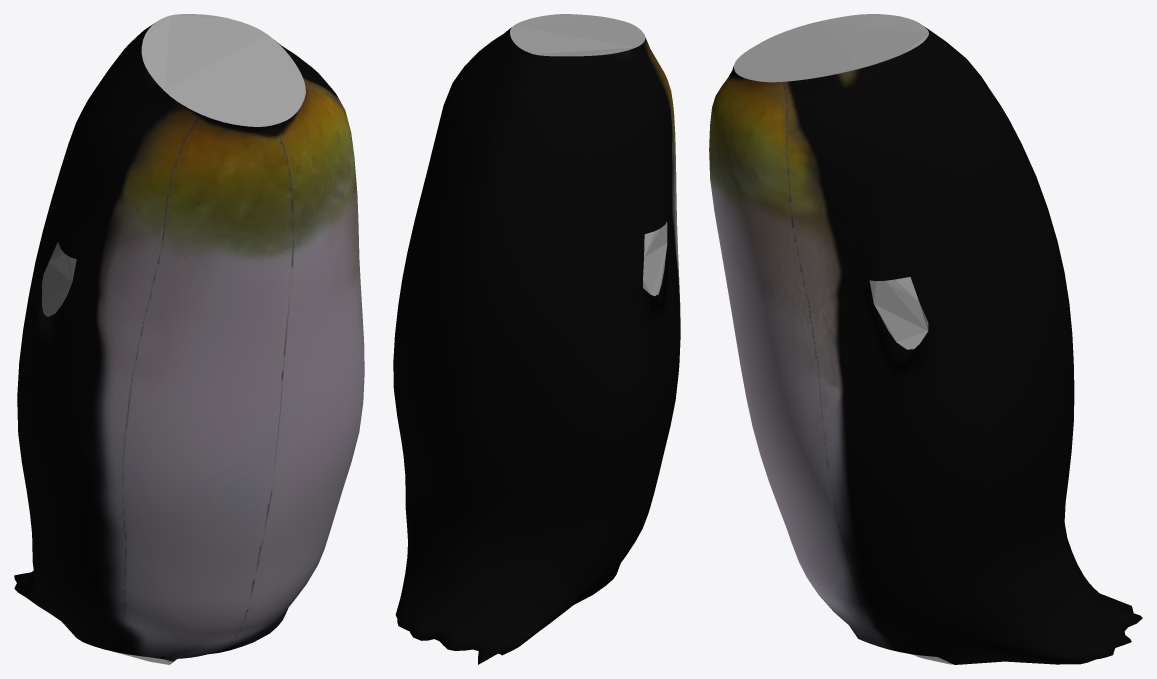
The model's file is TorsoPinguino.obj.
3 views of the same model, side by side, from view 1: azimuth 30°, elevation 25°; view 2: azimuth 150°, elevation 25°; view 3: azimuth 270°, elevation 25° (orthographic). The views are drawn at different scales.
Parts seen in each view (by area): view 1: Torso; view 2: Torso; view 3: Torso.
Boxes of the visible parts, x1,y1,x2,y2 form: Torso: (14,14,364,664); Torso: (393,14,680,664); Torso: (709,14,1142,664).
Size of the model in its own units: 5.11 by 10.52 by 6.81.
